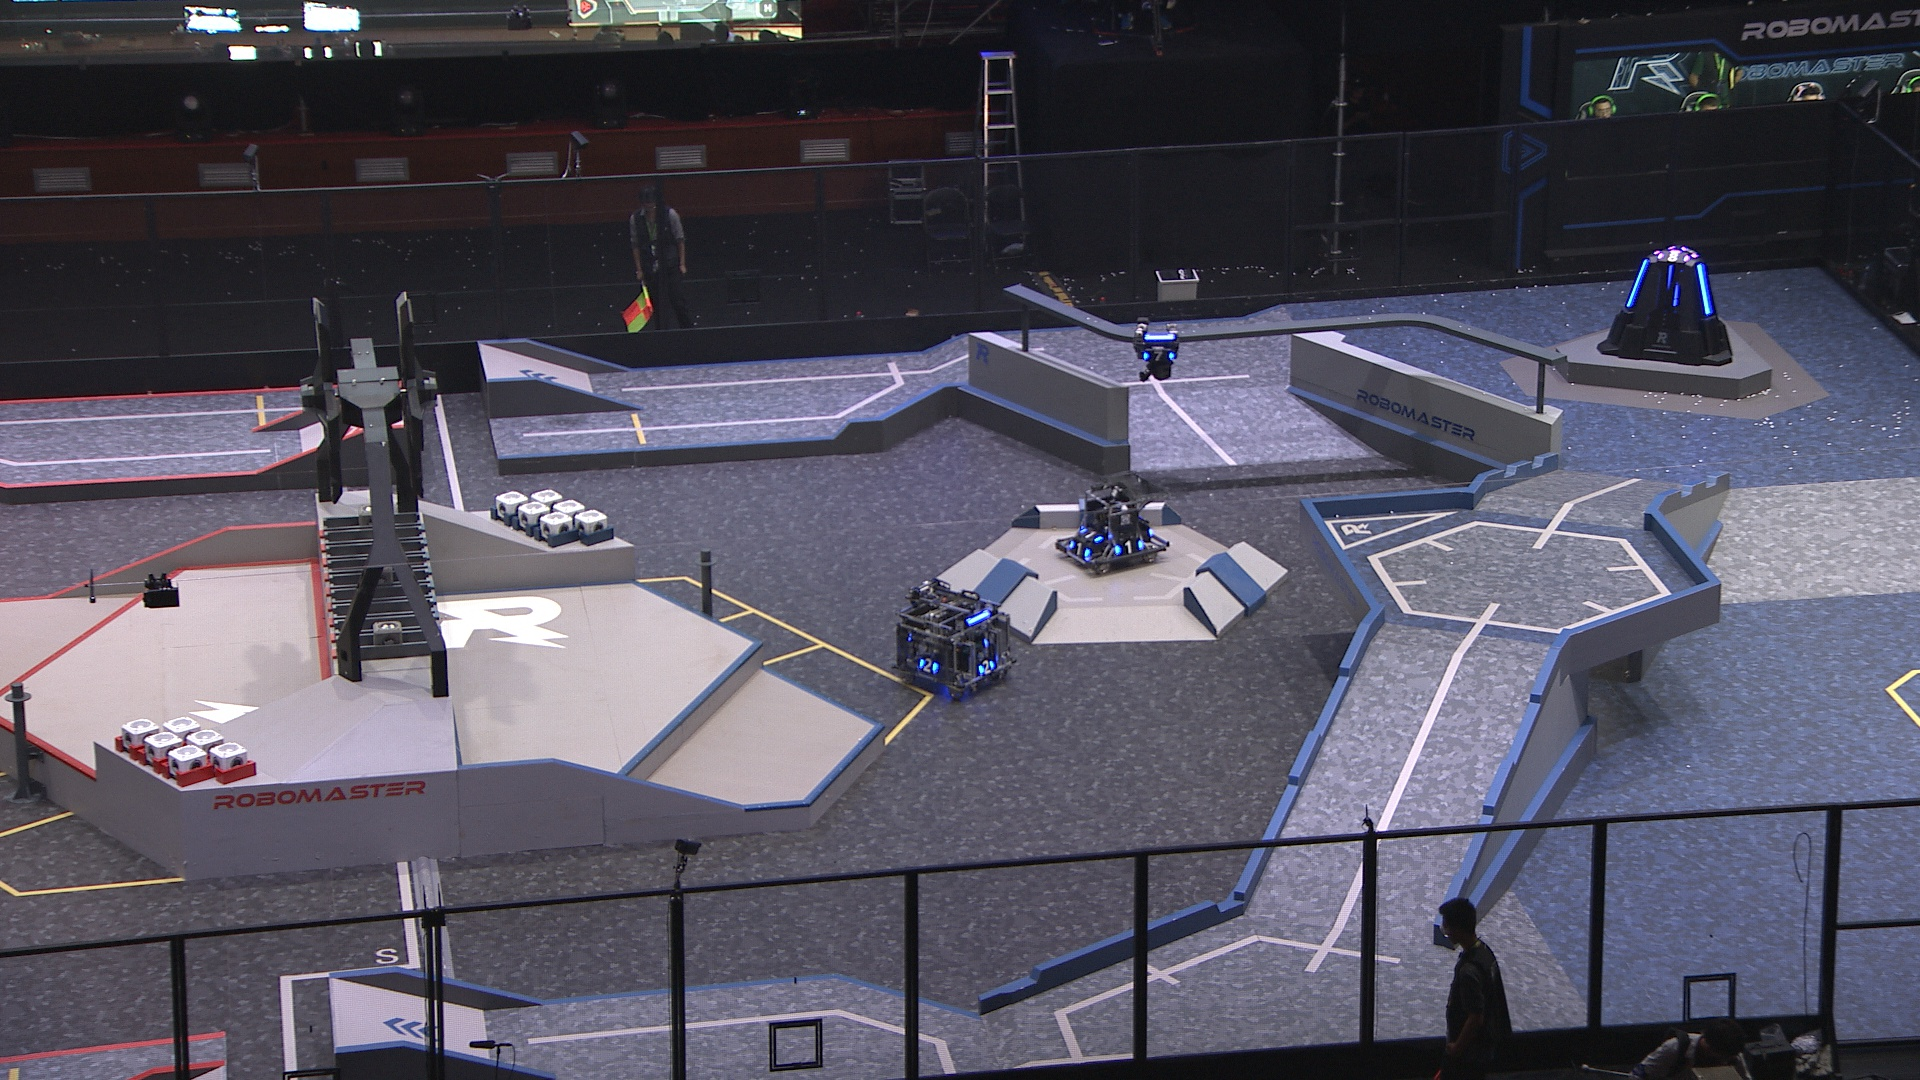armor: (1623, 261, 1648, 309), (1695, 262, 1714, 318), (1114, 541, 1147, 556), (1067, 541, 1091, 559), (920, 657, 942, 676), (1143, 351, 1178, 363), (1079, 527, 1102, 543), (975, 659, 996, 674), (1667, 264, 1676, 289)
base: (1596, 240, 1735, 371)
car: (891, 576, 1015, 698), (1055, 472, 1171, 578)
ignore: (1655, 248, 1692, 262)
watcher: (1130, 316, 1183, 382)
